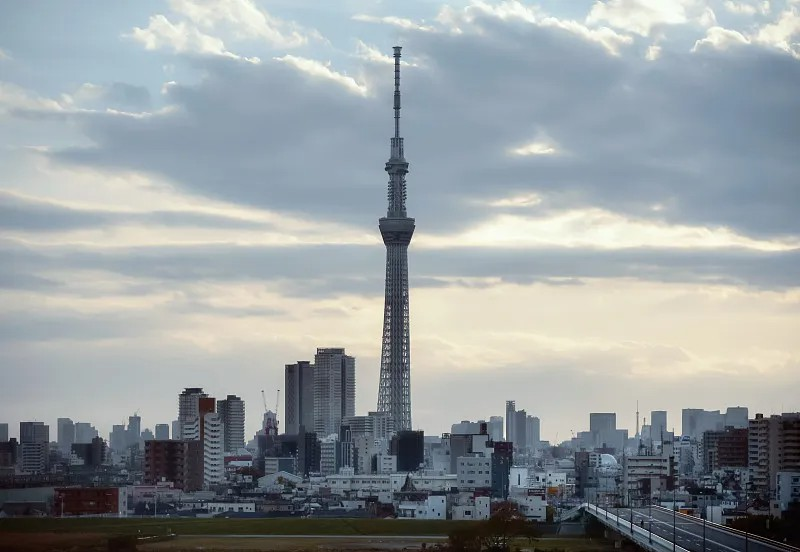Tokyo: (376, 47, 415, 443)
